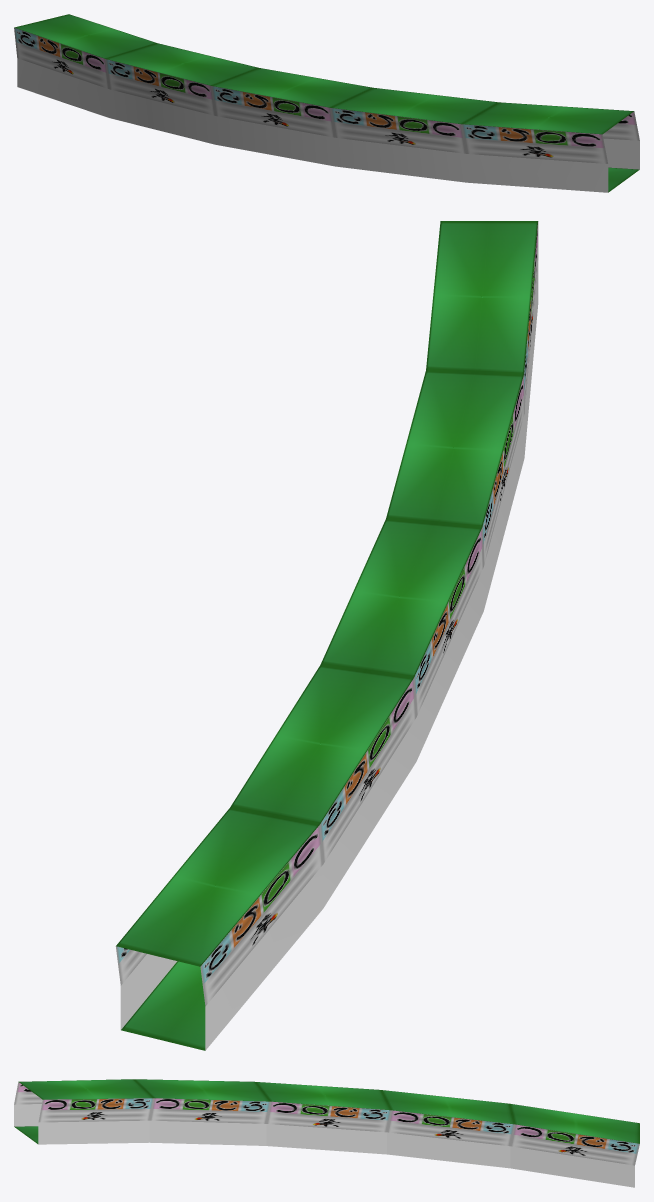
File: CourseSpring_Box_Wall_L_4.fbx
3 renders of one model, top to bottom at view 1: azimuth 30°, elevation 25°; view 2: azimuth 150°, elevation 25°; view 3: azimuth 270°, elevation 25°, orthographic. The views are drawn at different scales.
Parts seen in each view (by area): view 1: polySurface35; view 2: polySurface35; view 3: polySurface35.
Part boxes in pixels (box(x1,y1,x2,y2)): polySurface35: box(14, 14, 639, 192); polySurface35: box(115, 221, 538, 1050); polySurface35: box(14, 1079, 639, 1187).
Bounding box in the file's own units: 8.54 × 6.98 × 25.62.
Materials: 1 (1 with a texture image).
